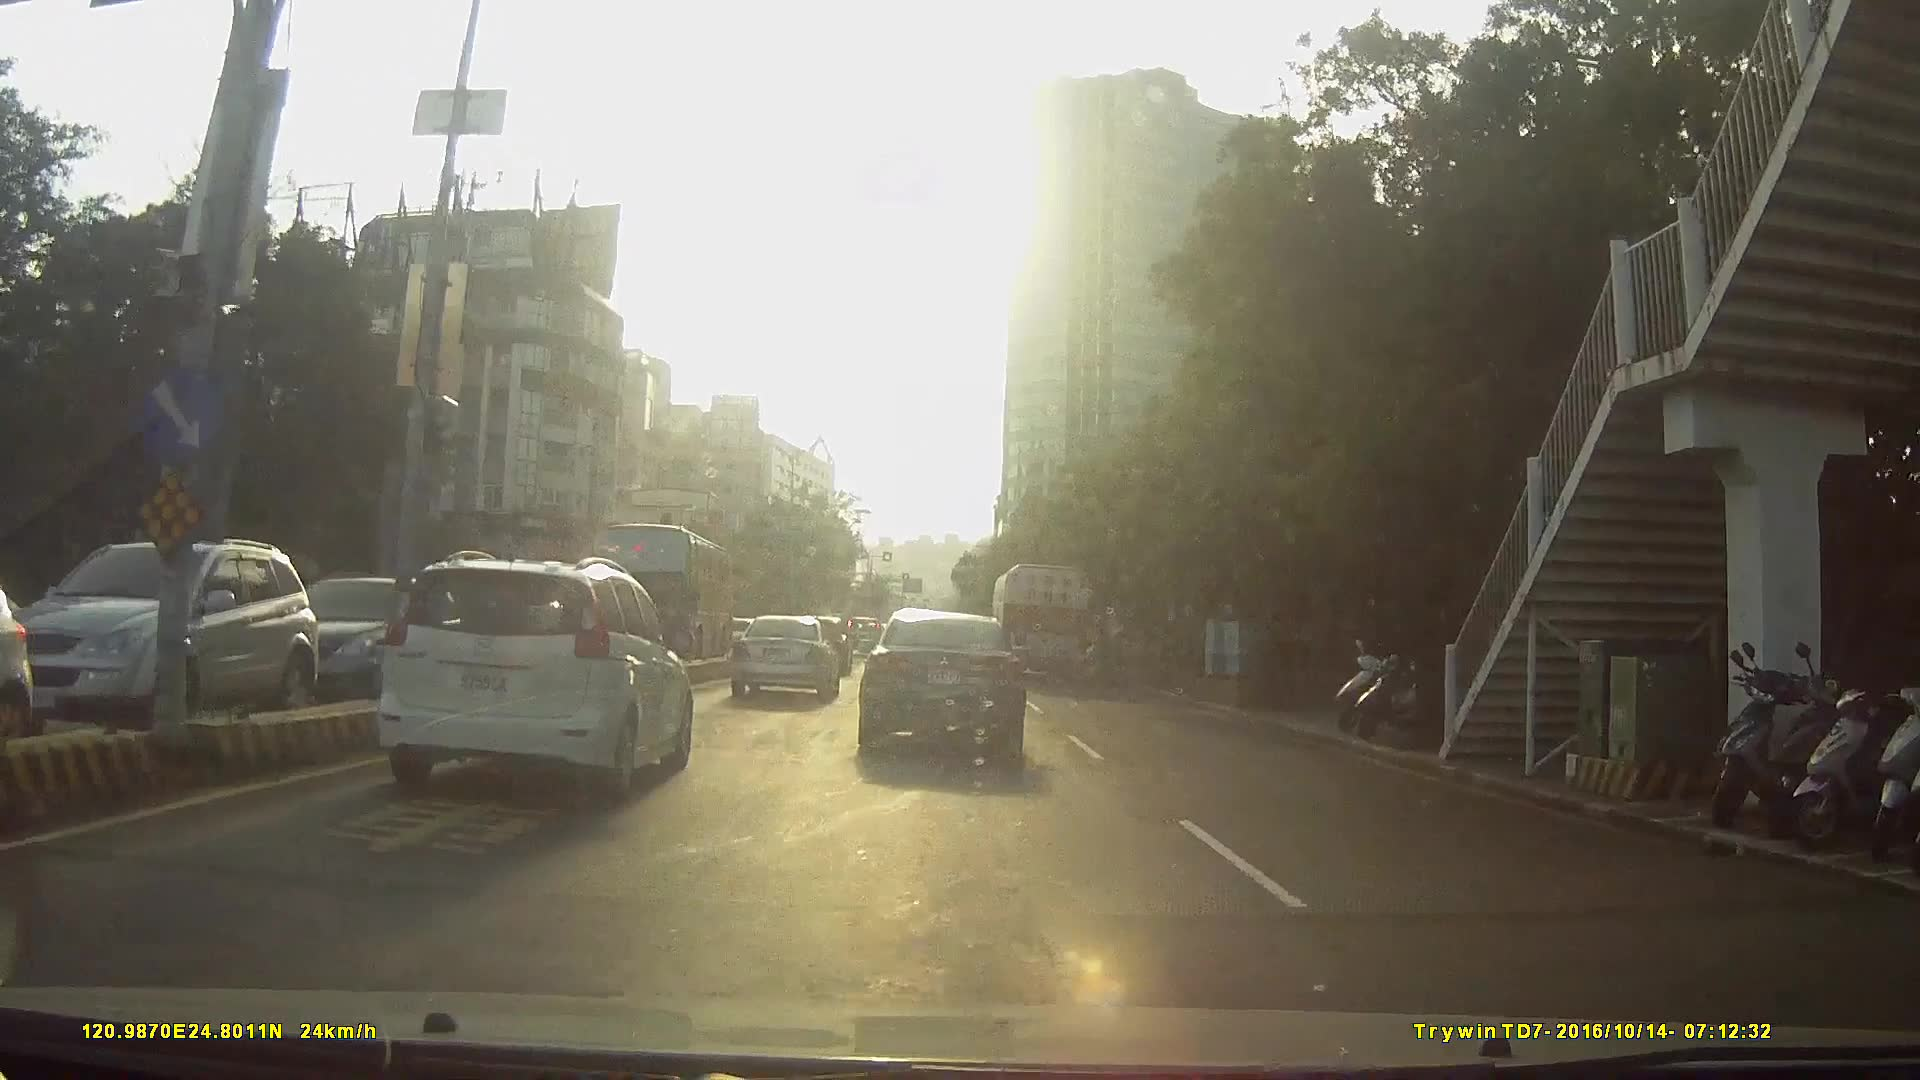vehicle: (251, 556, 684, 868), (378, 546, 694, 798), (29, 525, 328, 735), (857, 597, 1027, 767), (253, 568, 462, 698), (582, 516, 731, 659), (990, 556, 1095, 682), (731, 612, 839, 703), (841, 611, 887, 653)
